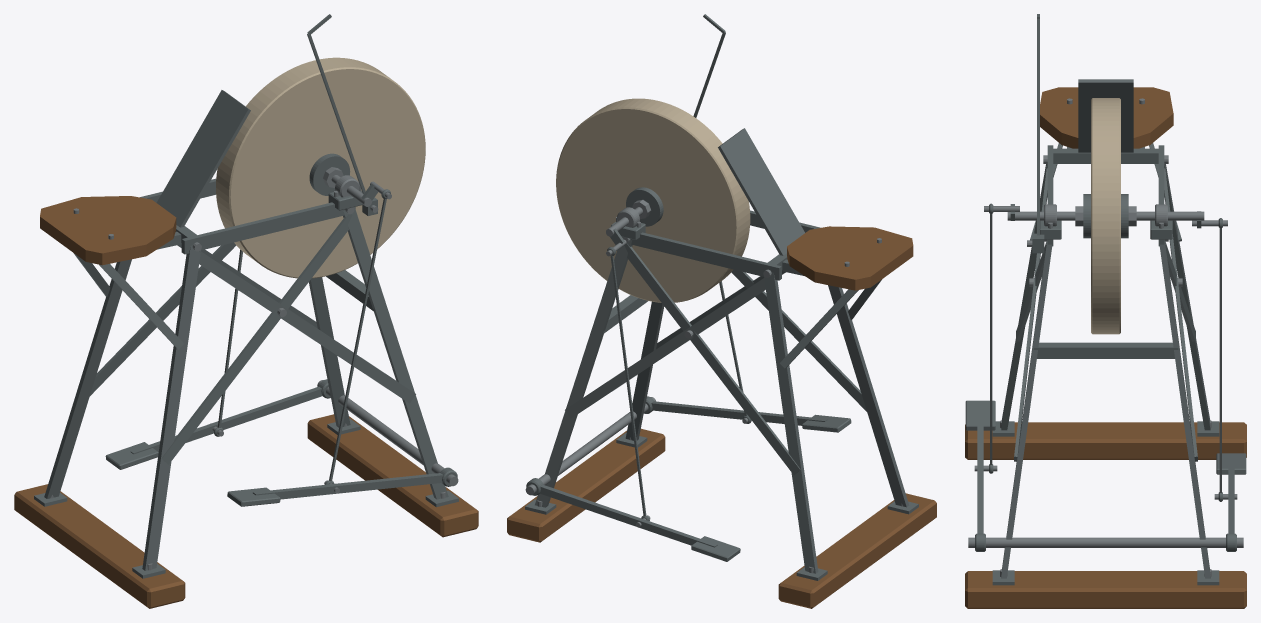
The model's file is NEW457_Treadle_Grindstone_LOD0.glb.
3 renders of one model, left to right at view 1: azimuth 30°, elevation 25°; view 2: azimuth 150°, elevation 25°; view 3: azimuth 270°, elevation 25°, orthographic. The views are drawn at different scales.
Parts seen in each view (by area): view 1: Single_Thick_Grindstone, Solid_Tapered_Seat, Wooden_Floor_Foot_0, Wooden_Floor_Foot_1, Fixed_Inclined_Plate_Purpose_Unverified, A_Frame_Leg_0_0, A_Frame_Leg_1_0, A_Frame_Leg_0_1, Cross_Brace_Rising_-1, Cross_Brace_Falling_-1, Upper_Longitudinal_Rail_-1, A_Frame_Leg_1_1 (+11 smaller); view 2: Single_Thick_Grindstone, Solid_Tapered_Seat, Wooden_Floor_Foot_0, Wooden_Floor_Foot_1, Fixed_Inclined_Plate_Purpose_Unverified, A_Frame_Leg_0_1, A_Frame_Leg_1_1, A_Frame_Leg_0_0, Cross_Brace_Rising_1, Cross_Brace_Falling_1, Upper_Longitudinal_Rail_1, Long_Treadle_Arm_1 (+10 smaller); view 3: Wooden_Floor_Foot_1, Wooden_Floor_Foot_0, Single_Thick_Grindstone, Solid_Tapered_Seat, Lower_Treadle_Pivot_Spindle, Fixed_Inclined_Plate_Purpose_Unverified, Lower_Stone_Clearance_Crossbar, A_Frame_Leg_1_0, A_Frame_Leg_1_1, A_Frame_Leg_0_1, A_Frame_Leg_0_0, Cross_Brace_Falling_1 (+14 smaller).
Boxes of the visible parts, left/top/right/bottom form: Single_Thick_Grindstone: left=216, top=57, right=425, bottom=278; Solid_Tapered_Seat: left=40, top=196, right=176, bottom=265; Wooden_Floor_Foot_0: left=14, top=484, right=185, bottom=608; Wooden_Floor_Foot_1: left=307, top=414, right=478, bottom=537; Fixed_Inclined_Plate_Purpose_Unverified: left=156, top=90, right=250, bottom=227; A_Frame_Leg_0_0: left=142, top=245, right=200, bottom=570; A_Frame_Leg_1_0: left=343, top=207, right=448, bottom=499; A_Frame_Leg_0_1: left=44, top=259, right=131, bottom=498; Cross_Brace_Rising_-1: left=161, top=214, right=352, bottom=464; Cross_Brace_Falling_-1: left=199, top=251, right=415, bottom=403; Upper_Longitudinal_Rail_-1: left=181, top=202, right=355, bottom=254; A_Frame_Leg_1_1: left=309, top=277, right=350, bottom=427; Single_Thick_Grindstone: left=556, top=98, right=750, bottom=302; Solid_Tapered_Seat: left=787, top=226, right=913, bottom=290; Wooden_Floor_Foot_0: left=778, top=493, right=936, bottom=608; Wooden_Floor_Foot_1: left=507, top=428, right=665, bottom=542; Fixed_Inclined_Plate_Purpose_Unverified: left=718, top=128, right=804, bottom=255; A_Frame_Leg_0_1: left=764, top=272, right=818, bottom=573; A_Frame_Leg_1_1: left=535, top=237, right=632, bottom=507; A_Frame_Leg_0_0: left=828, top=285, right=909, bottom=507; Cross_Brace_Rising_1: left=624, top=243, right=800, bottom=475; Cross_Brace_Falling_1: left=565, top=277, right=765, bottom=418; Upper_Longitudinal_Rail_1: left=630, top=232, right=781, bottom=280; Long_Treadle_Arm_1: left=540, top=484, right=717, bottom=547; Wooden_Floor_Foot_1: left=965, top=571, right=1246, bottom=608; Wooden_Floor_Foot_0: left=965, top=422, right=1246, bottom=459; Single_Thick_Grindstone: left=1091, top=98, right=1120, bottom=334; Solid_Tapered_Seat: left=1040, top=87, right=1173, bottom=148; Lower_Treadle_Pivot_Spindle: left=968, top=537, right=1243, bottom=547; Fixed_Inclined_Plate_Purpose_Unverified: left=1078, top=79, right=1133, bottom=152; Lower_Stone_Clearance_Crossbar: left=1033, top=342, right=1178, bottom=358; A_Frame_Leg_1_0: left=1001, top=240, right=1052, bottom=578; A_Frame_Leg_1_1: left=1159, top=240, right=1210, bottom=578; A_Frame_Leg_0_1: left=1164, top=163, right=1210, bottom=430; A_Frame_Leg_0_0: left=1001, top=163, right=1047, bottom=430; Cross_Brace_Falling_1: left=1164, top=166, right=1197, bottom=461.
Bounding box in the file's own units: 0.8872 × 1.23 × 0.5842.
